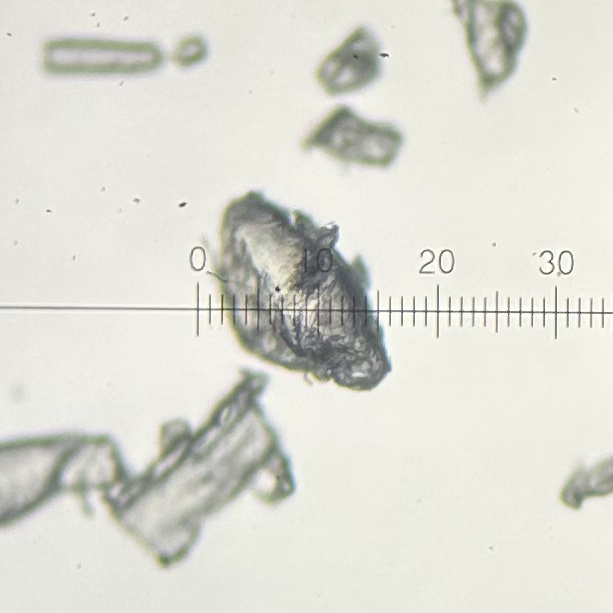microplastic: (201, 188, 395, 397), (106, 370, 299, 570), (1, 433, 120, 531), (446, 1, 530, 106), (300, 103, 407, 172), (312, 22, 385, 100), (41, 37, 163, 80), (557, 449, 613, 513), (171, 33, 210, 71)
